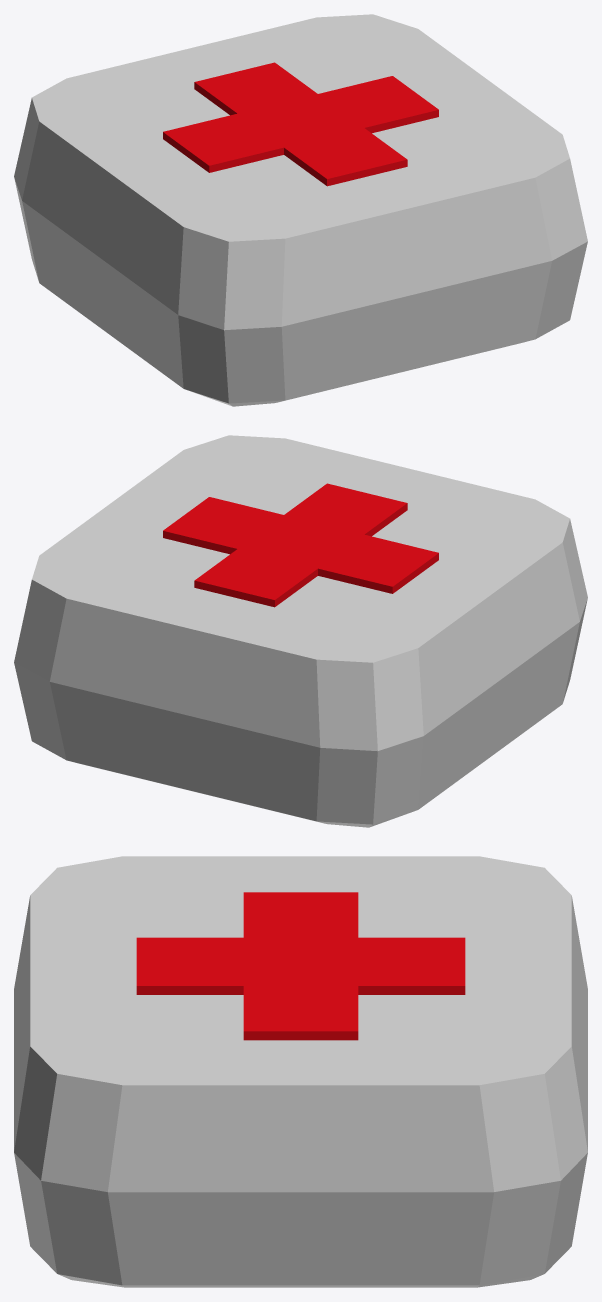
The model's file is trousse.fbx.
The picture shows the model from 3 angles, top to bottom: view 1: azimuth 30°, elevation 25°; view 2: azimuth 150°, elevation 25°; view 3: azimuth 270°, elevation 25°; orthographic projection. The views are drawn at different scales.
Visible parts, largest first — view 1: Cube; view 2: Cube; view 3: Cube.
Part boxes in pixels (x1,y1,x2,y2): Cube: (14,14,587,406); Cube: (14,435,587,827); Cube: (14,856,587,1287).
Size of the model in its own units: 215 by 95.07 by 215.
